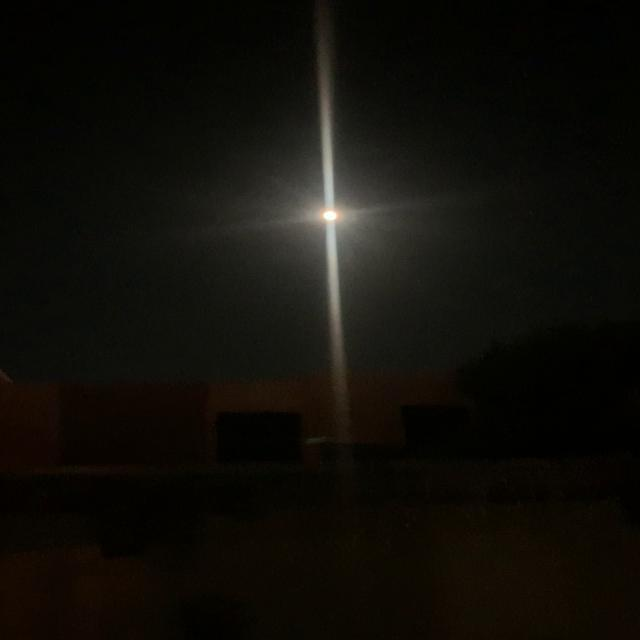moon: (308, 201, 352, 227)
